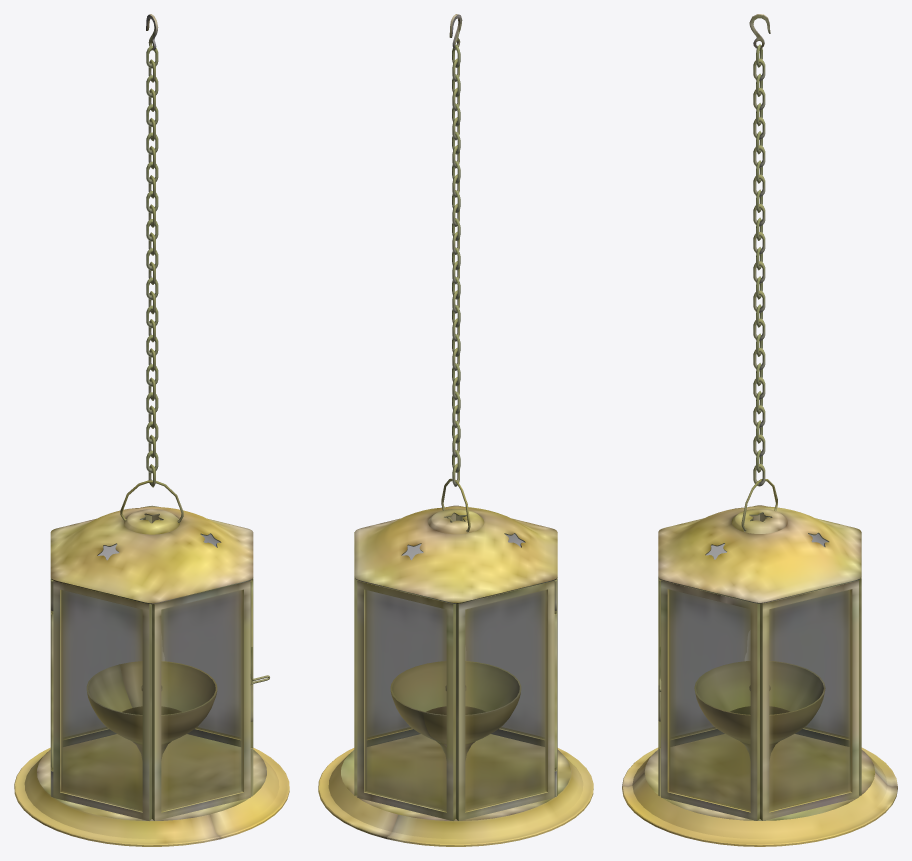
Rendered from brass-diya-lantern.glb.
The picture shows the model from 3 angles, left to right: view 1: azimuth 30°, elevation 25°; view 2: azimuth 150°, elevation 25°; view 3: azimuth 270°, elevation 25°; orthographic projection.
Visible parts, largest first — view 1: brass_diya_lantern, brass_diya_lantern_connection; view 2: brass_diya_lantern, brass_diya_lantern_connection; view 3: brass_diya_lantern, brass_diya_lantern_connection.
Part boxes in pixels (<box>): brass_diya_lantern: <box>14,505,289,846</box>; brass_diya_lantern_connection: <box>120,14,183,522</box>; brass_diya_lantern: <box>318,505,593,846</box>; brass_diya_lantern_connection: <box>441,14,470,532</box>; brass_diya_lantern: <box>622,505,897,846</box>; brass_diya_lantern_connection: <box>741,14,777,531</box>.
Size of the model in its own units: 0.123 by 0.3808 by 0.123.
3 materials, 3 textured.
